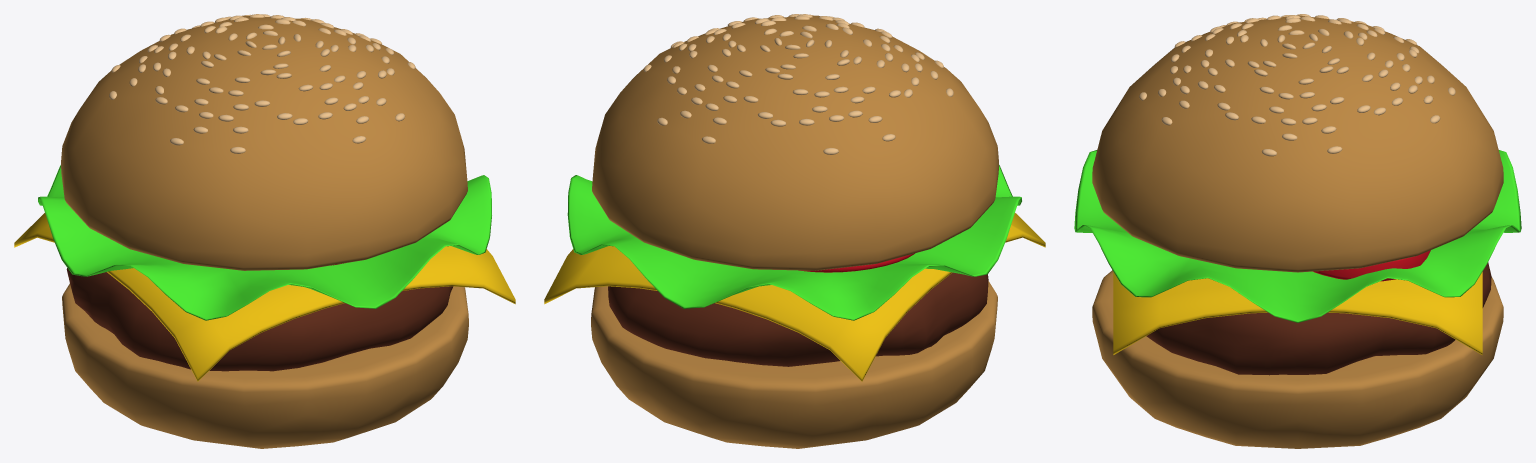
The model's file is Hamburger.gltf.
3 renders of one model, left to right at view 1: azimuth 30°, elevation 25°; view 2: azimuth 150°, elevation 25°; view 3: azimuth 270°, elevation 25°, orthographic.
Visible parts, largest first — view 1: burger_500; view 2: burger_500; view 3: burger_500.
Part boxes in pixels (x1,y1,x2,y2): burger_500: (14, 15, 515, 448); burger_500: (544, 15, 1045, 448); burger_500: (1074, 15, 1521, 448).
Size of the model in its own units: 2.48 by 2.19 by 2.48.
